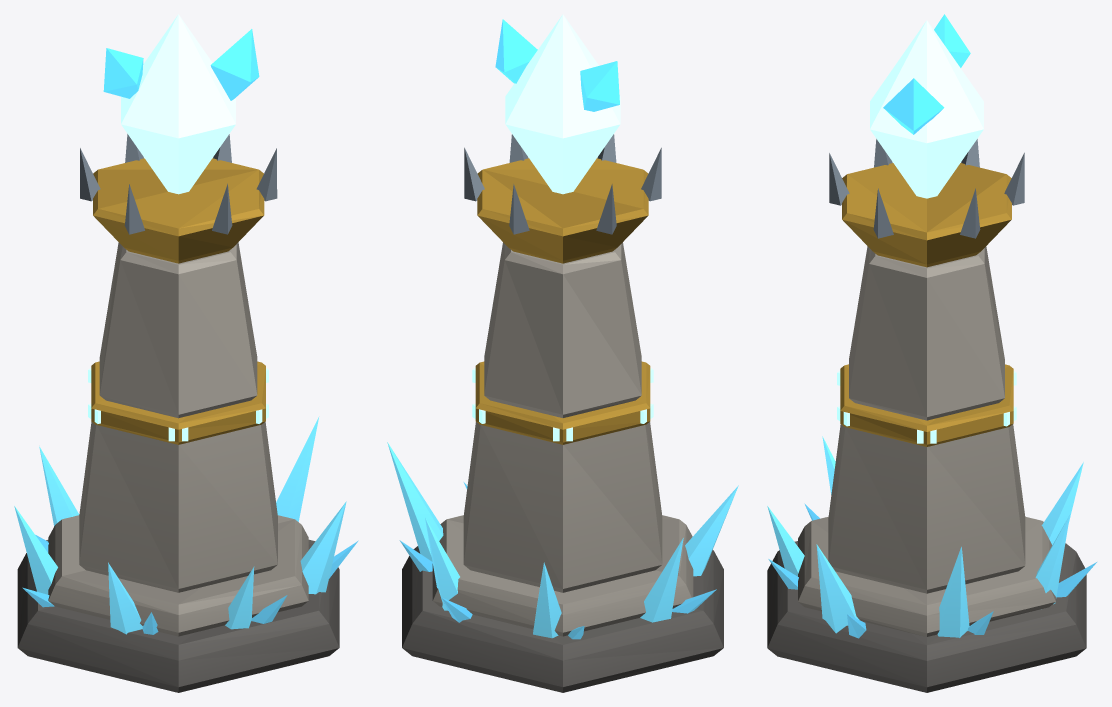
Rendered from deep_frost.glb.
The picture shows the model from 3 angles, left to right: view 1: azimuth 30°, elevation 25°; view 2: azimuth 150°, elevation 25°; view 3: azimuth 270°, elevation 25°; orthographic projection.
Parts seen in each view (by area): view 1: deep_frost; view 2: deep_frost; view 3: deep_frost.
Boxes of the visible parts, bbox=[...] form: deep_frost: bbox=[14, 14, 358, 692]; deep_frost: bbox=[387, 14, 738, 692]; deep_frost: bbox=[767, 14, 1096, 692].
Bounding box in the file's own units: 0.94 × 1.69 × 0.8432.
